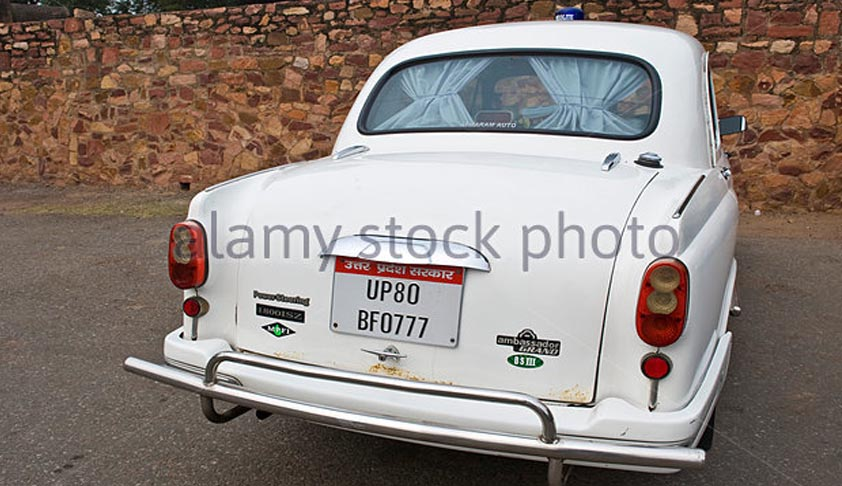number_plate: (329, 255, 470, 350)
